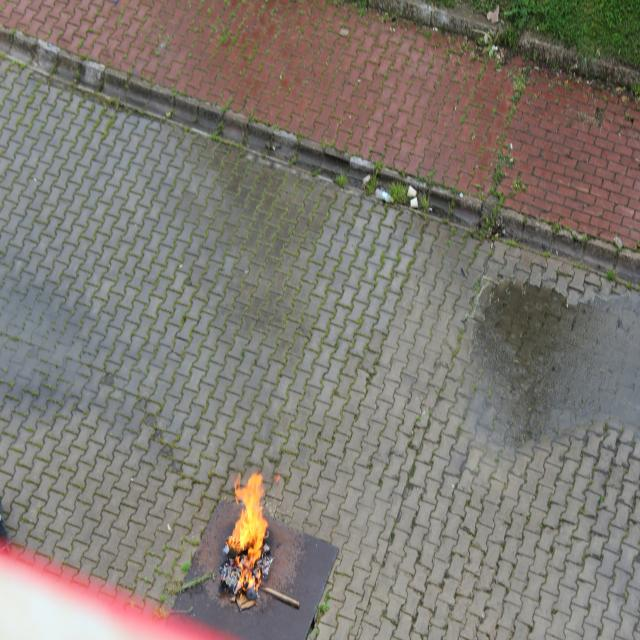fire: (219, 468, 273, 586)
